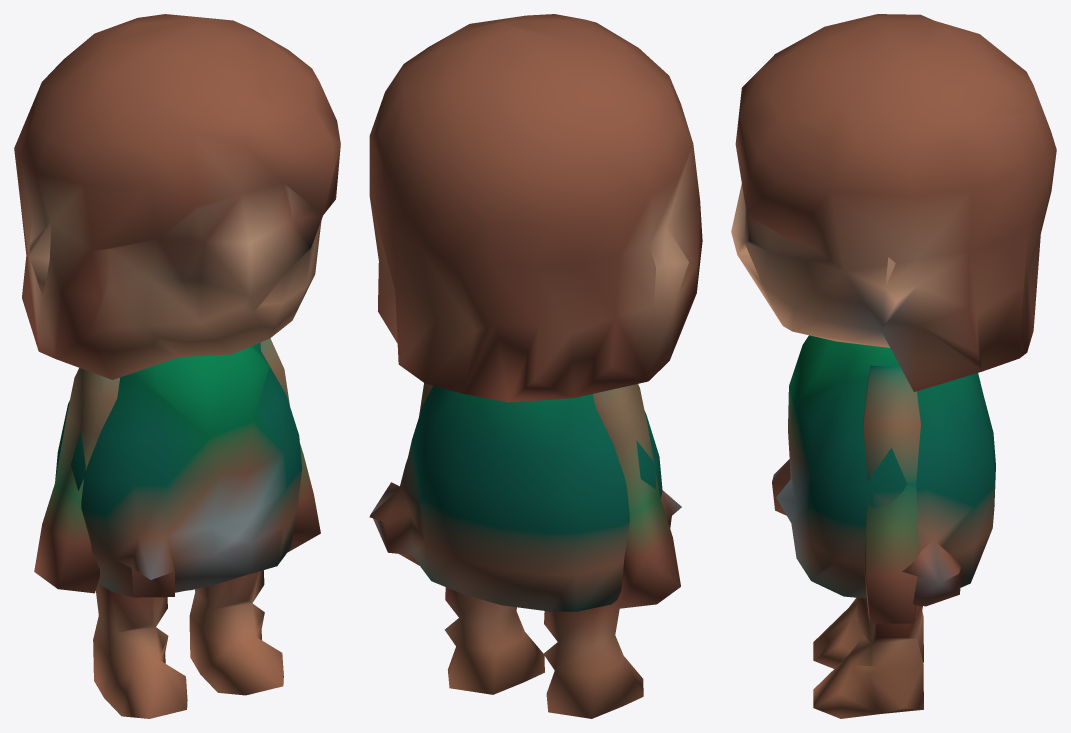
Rendered from char2-nu-0.glb.
The picture shows the model from 3 angles, left to right: view 1: azimuth 30°, elevation 25°; view 2: azimuth 150°, elevation 25°; view 3: azimuth 270°, elevation 25°; orthographic projection. The views are drawn at different scales.
Parts seen in each view (by area): view 1: char; view 2: char; view 3: char.
Part boxes in pixels (left/top/right/bottom): char: left=14, top=14, right=340, bottom=718; char: left=369, top=14, right=702, bottom=718; char: left=731, top=14, right=1056, bottom=718.
Size of the model in its own units: 1.06 by 2.16 by 0.9806.
